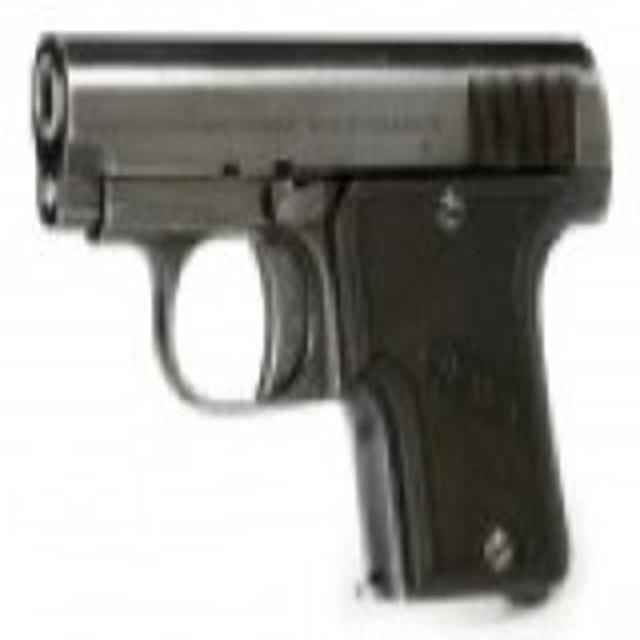pistol: (31, 26, 615, 612)
